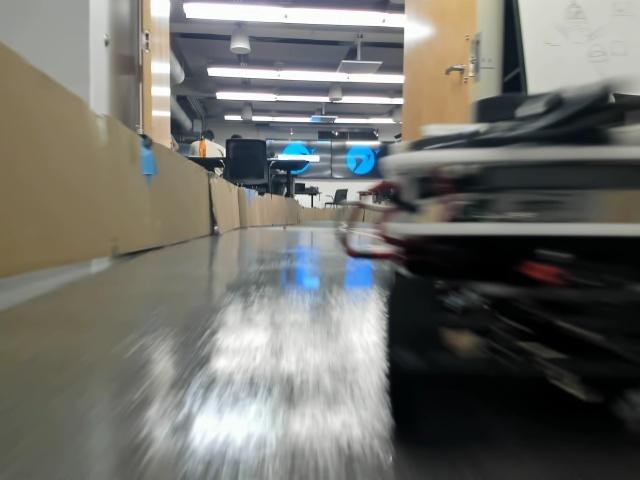Car: (333, 94, 639, 442)
